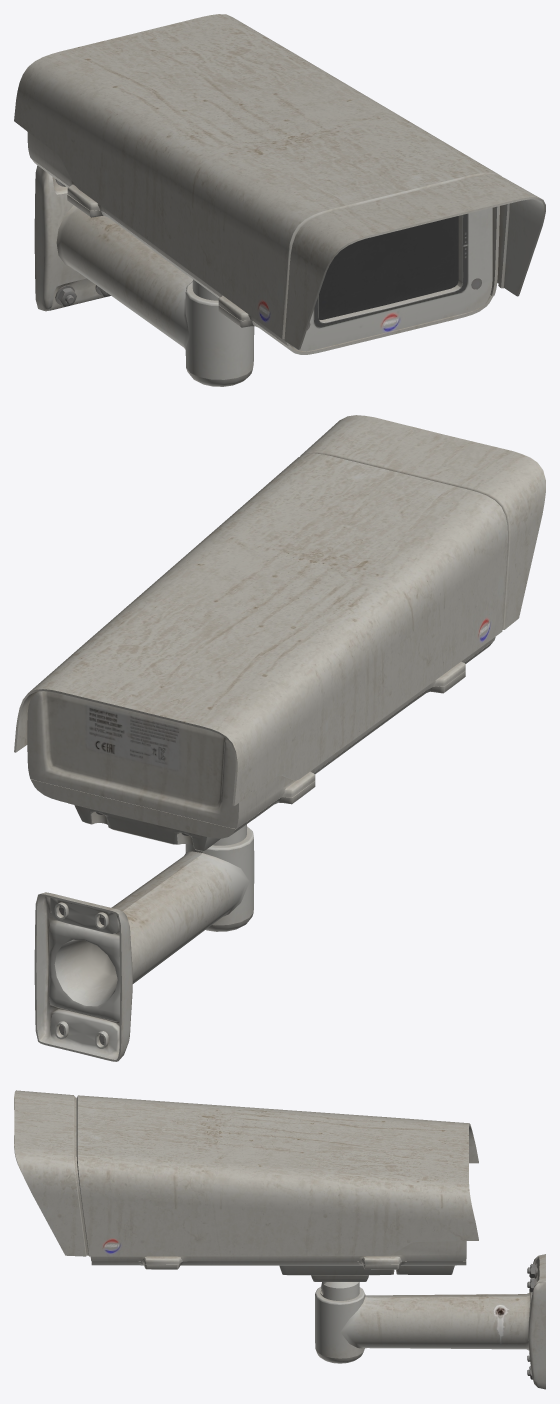
Rendered from security_camera_02.glb.
The picture shows the model from 3 angles, top to bottom: view 1: azimuth 30°, elevation 25°; view 2: azimuth 150°, elevation 25°; view 3: azimuth 270°, elevation 25°; orthographic projection. The views are drawn at different scales.
Parts seen in each view (by area): view 1: security_camera_02, security_camera_02_mount; view 2: security_camera_02, security_camera_02_mount; view 3: security_camera_02, security_camera_02_mount.
Part boxes in pixels (box(x1,y1,x2,y2)): security_camera_02: box(14, 14, 545, 354); security_camera_02_mount: box(34, 165, 254, 386); security_camera_02: box(14, 415, 545, 851); security_camera_02_mount: box(34, 824, 254, 1061); security_camera_02: box(14, 1090, 478, 1294); security_camera_02_mount: box(315, 1254, 545, 1389).
Size of the model in its own units: 0.1407 by 0.2086 by 0.3938.
2 materials, 2 textured.
